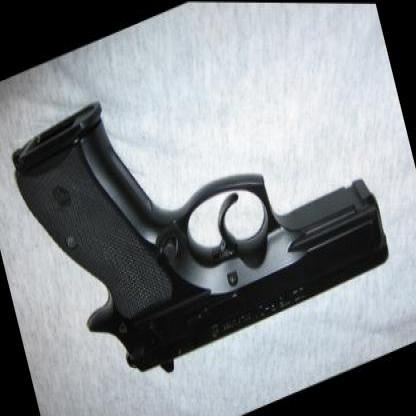pistol: (10, 10, 396, 415)
